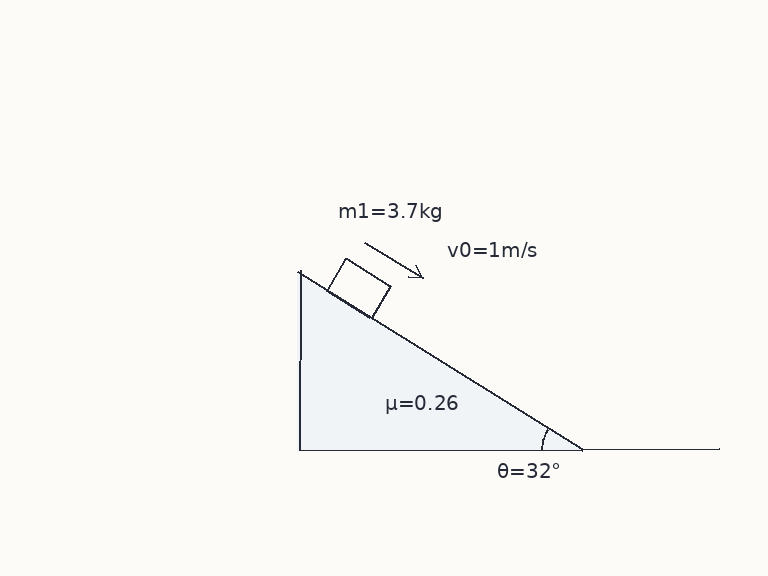block: (325, 257, 392, 320)
ramp: (296, 270, 584, 452)
